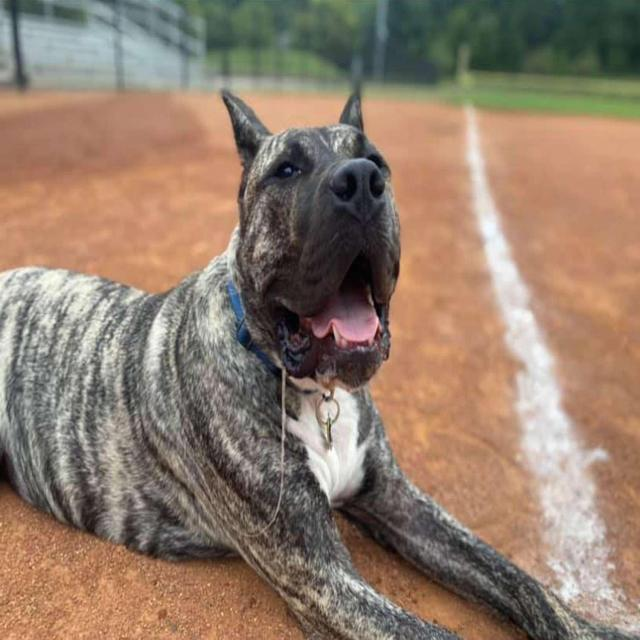Dog: (190, 61, 444, 435)
